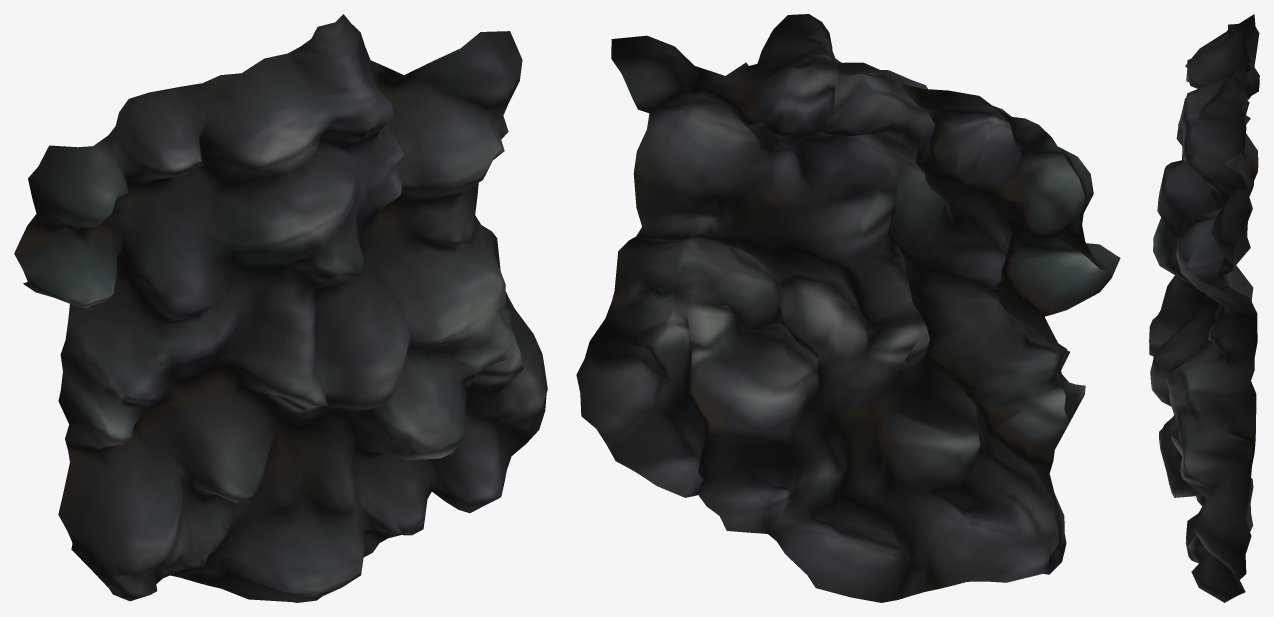
Rendered from Mussels05.fbx.
The picture shows the model from 3 angles, left to right: view 1: azimuth 30°, elevation 25°; view 2: azimuth 150°, elevation 25°; view 3: azimuth 270°, elevation 25°; orthographic projection. The views are drawn at different scales.
Visible parts, largest first — view 1: Mussels05; view 2: Mussels05; view 3: Mussels05.
Part boxes in pixels (bbox=[...]): Mussels05: bbox=[14, 14, 547, 602]; Mussels05: bbox=[576, 14, 1120, 602]; Mussels05: bbox=[1149, 14, 1259, 602].
Bounding box in the file's own units: 53.68 × 55.61 × 10.87.
